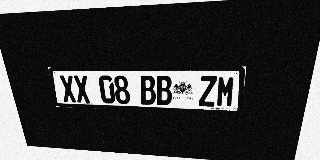0: (98, 75, 116, 104)
8: (113, 75, 130, 104)
B: (139, 76, 156, 105), (156, 76, 172, 105)
M: (216, 76, 236, 107)
X: (73, 75, 91, 103), (59, 75, 77, 102)
Z: (199, 76, 217, 107)
